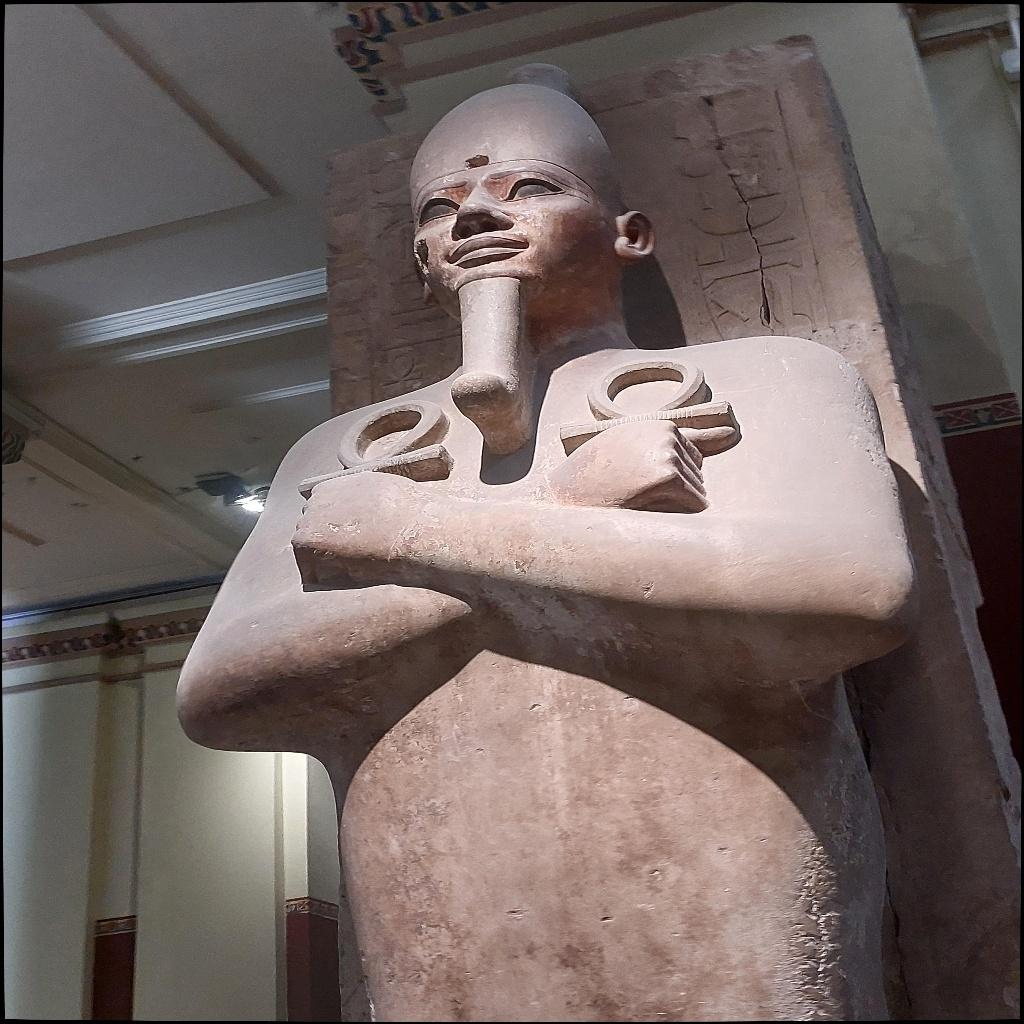Colossus of Senuseret I: (168, 62, 926, 1016)
